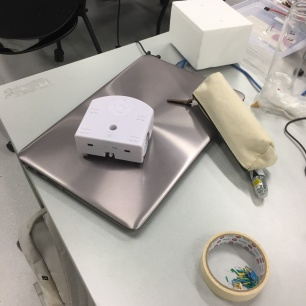thymio: (74, 91, 154, 166)
